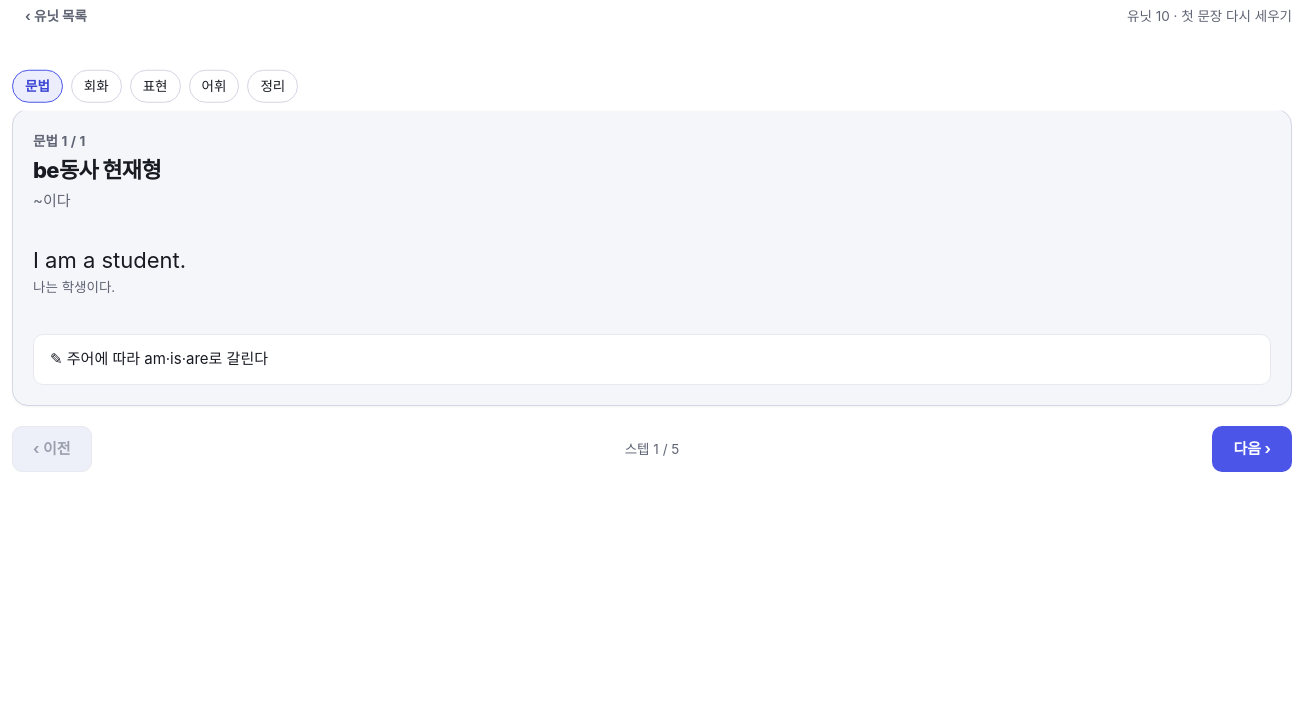
Scenario: 열린 데까지의 끝 — coursePlannedUnits (기획 §5-5 · 예외 E-4) › 열린 유닛이 계획 수에 못 미치면 완주 축하를 띄우지 않는다
The image size is (1304, 720).
Click the button "정리".
click(273, 86)  # box [247, 70, 298, 102]
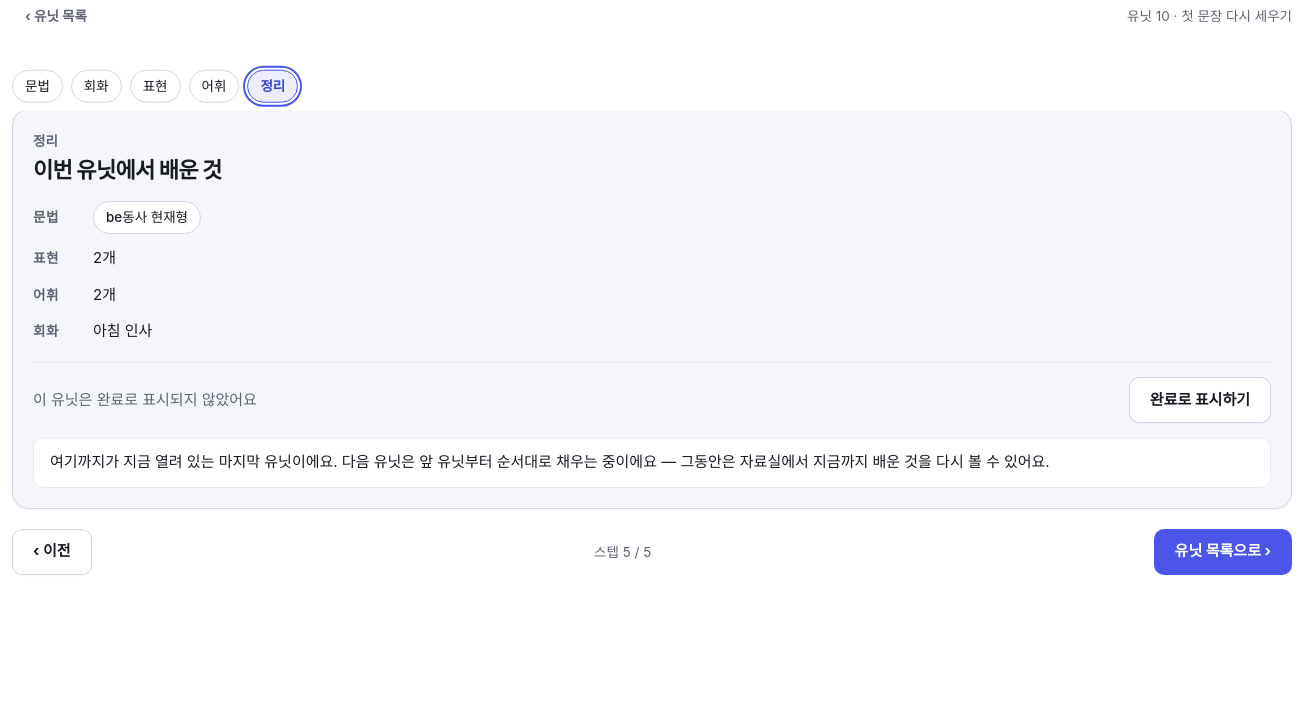
expect the heading "이번 유닛에서 배운 것" is shown: met, box [33, 157, 222, 183]
